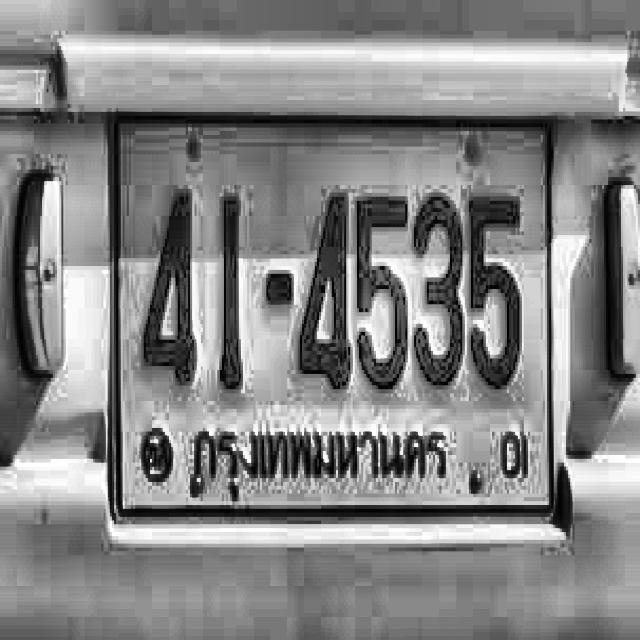license-plate: (111, 109, 556, 512)
